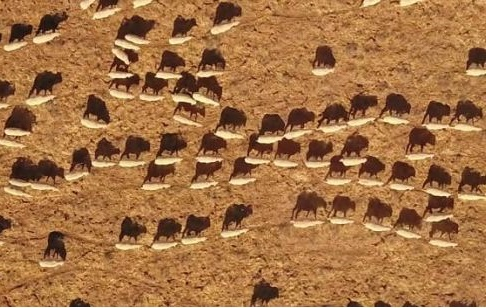sheep: (81, 114, 126, 139), (212, 122, 247, 152), (353, 174, 394, 195), (416, 180, 455, 202), (193, 66, 237, 85), (172, 112, 208, 135), (361, 217, 398, 239), (307, 64, 345, 85), (169, 91, 203, 114), (279, 126, 313, 148), (137, 181, 181, 198), (2, 175, 34, 198), (219, 219, 251, 241), (289, 212, 326, 231), (32, 26, 66, 46), (301, 157, 338, 175), (184, 178, 220, 196), (424, 210, 458, 229), (29, 179, 63, 198), (27, 91, 65, 108), (109, 234, 141, 254), (341, 154, 372, 174), (314, 121, 348, 139), (387, 179, 419, 198), (147, 237, 178, 255), (100, 65, 131, 83), (151, 156, 188, 171), (153, 69, 187, 85), (3, 125, 39, 140), (228, 176, 261, 192), (165, 32, 200, 47), (322, 172, 349, 191), (82, 156, 116, 171), (456, 121, 484, 139), (114, 32, 138, 53), (247, 155, 278, 171), (256, 131, 286, 147), (121, 156, 153, 171), (178, 233, 206, 250), (5, 37, 30, 56), (114, 87, 140, 105), (37, 258, 68, 273), (466, 60, 486, 83), (198, 152, 223, 170), (141, 90, 167, 107), (402, 150, 433, 164), (203, 19, 234, 33), (344, 112, 380, 124), (378, 113, 411, 126), (457, 189, 486, 203), (62, 169, 91, 183), (274, 157, 302, 171), (329, 214, 353, 229), (94, 7, 117, 22), (109, 47, 129, 64), (399, 229, 418, 244), (437, 238, 454, 254), (422, 121, 449, 131), (195, 90, 212, 104), (1, 141, 28, 149)
